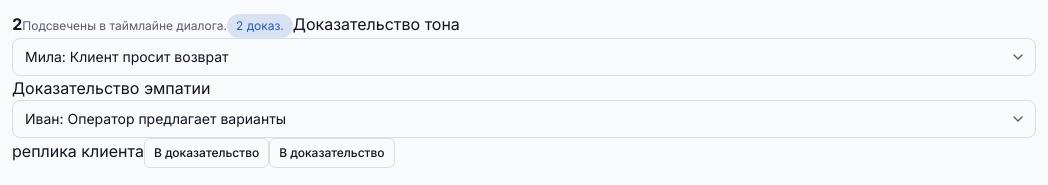
Test case: evidence draft state › replaces the focused criterion when every slot is already filled
The image size is (1048, 185).
Click the 1st button "В доказательство".
click(207, 153)  # box [144,138,269,168]
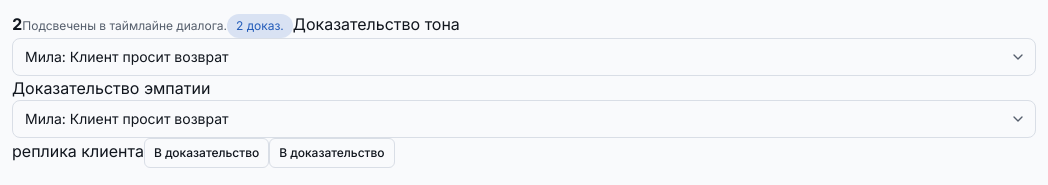
Expected: the dropdown labelled "Доказательство тона" shows "Мила: Клиент просит возврат", [12,38,1036,76]
Result: the dropdown labelled "Доказательство эмпатии" shows "Мила: Клиент просит возврат" at [12,100,1036,138]
